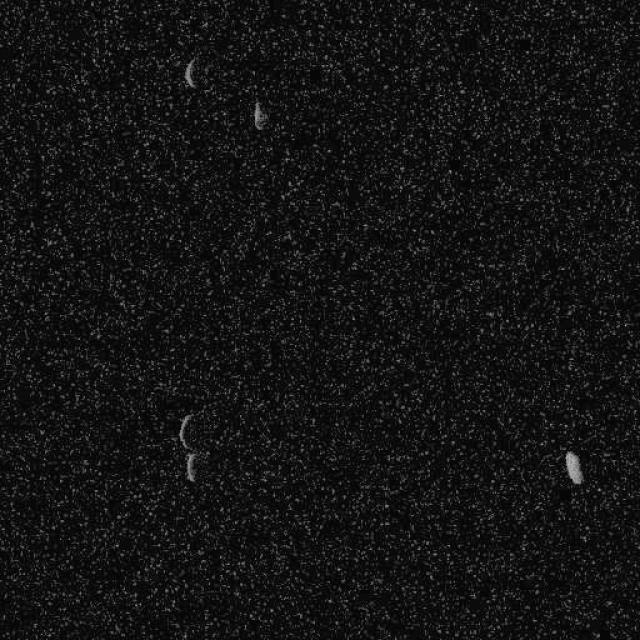D2: (176, 412, 199, 482), (562, 449, 584, 485), (182, 56, 198, 89), (252, 100, 268, 130)
